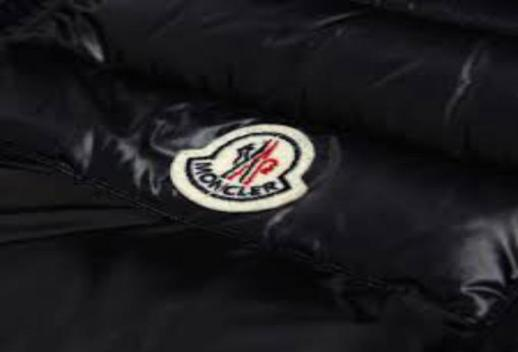MONCLER: (219, 133, 281, 186)
